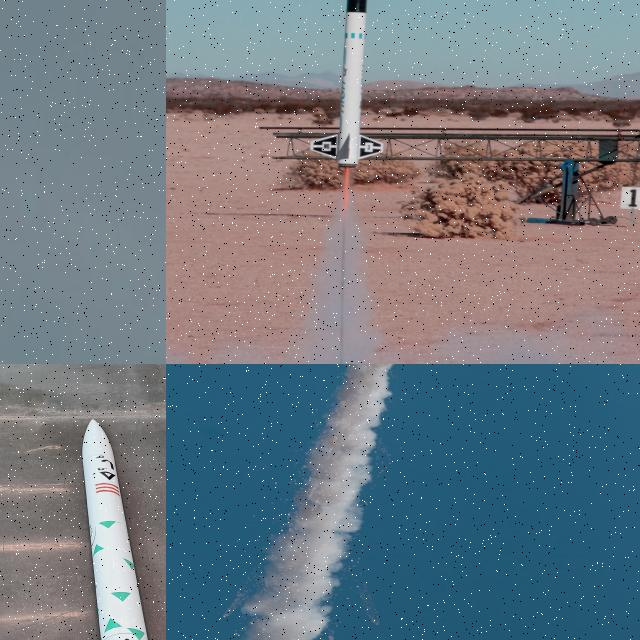Rocket: (82, 418, 149, 640), (309, 0, 383, 168)
